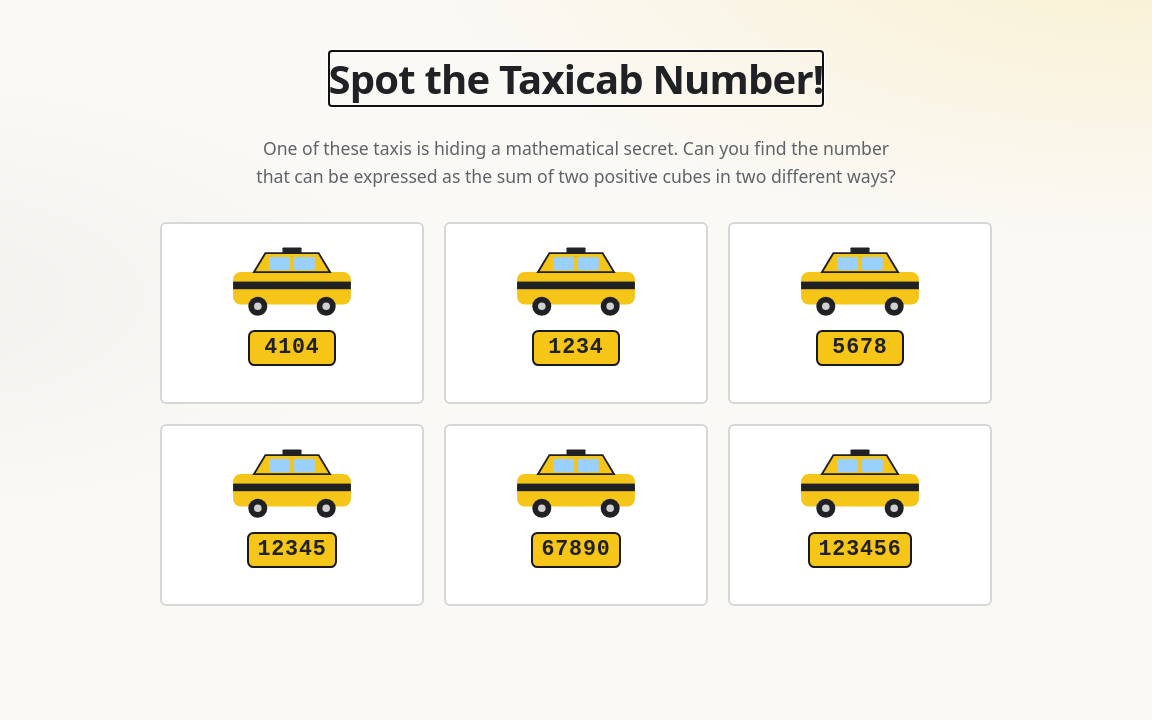
Scenario: GamePage › locks all taxis after a correct selection and unlocks reveal via Continue
Click the button named "Taxi with license plate 4104". click: (292, 313)
box: 160,222 -> 424,404
(page scrolled)
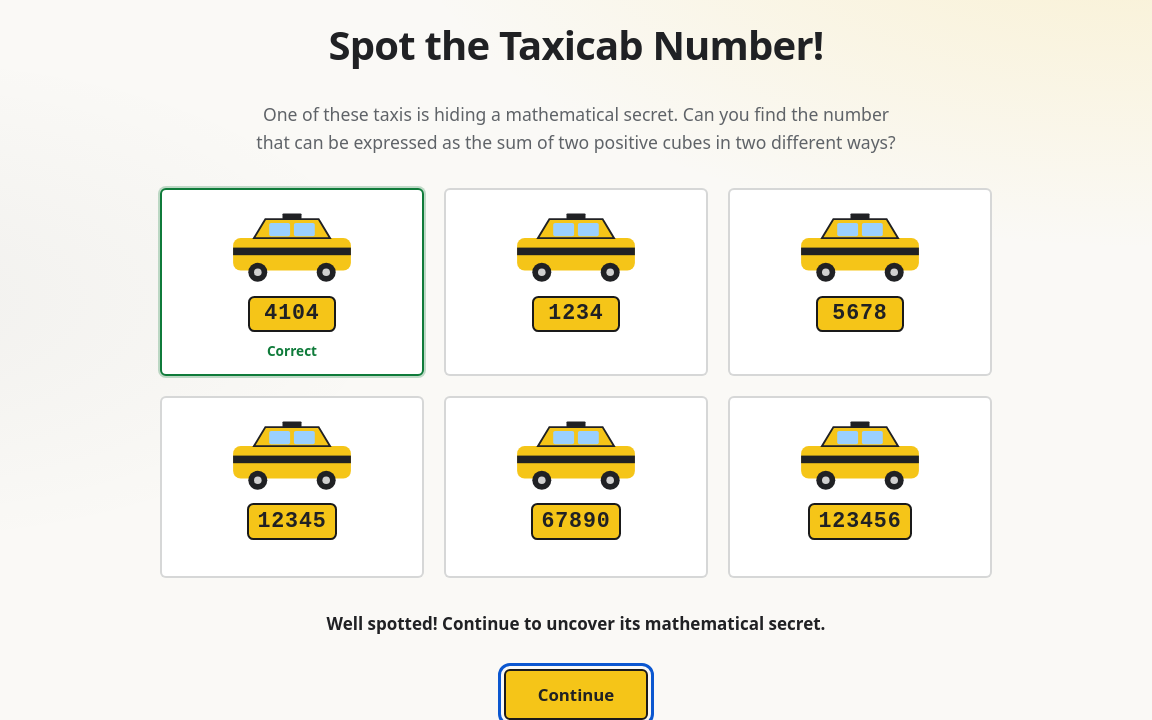
Expected: the text "Well spotted! Continue to uncover its mathematical secret." is shown, 327,610 -> 826,637
Expected: the button "4104 Correct" is disabled, 160,188 -> 424,376
Expected: the button "1234" is disabled, 444,188 -> 708,376
Click the button "Continue". click: (576, 695)
box: 504,669 -> 648,719
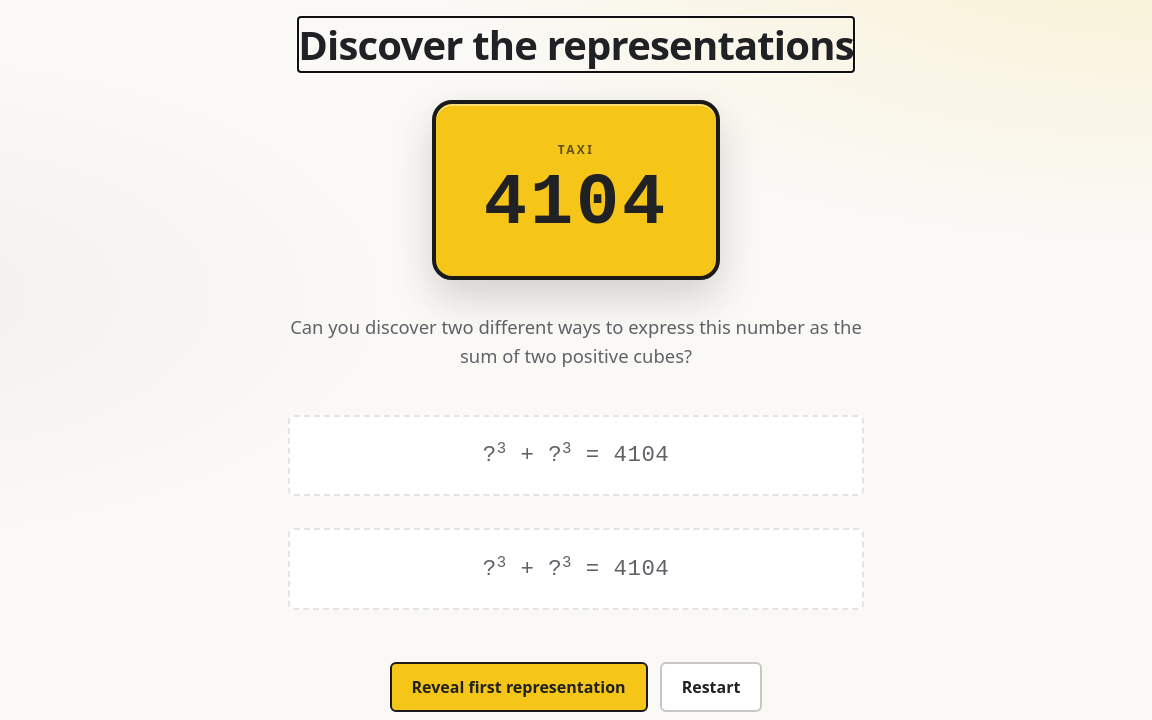
Expected: the heading "Discover the representations" is shown, 298,22 -> 854,68
Expected: the picture named "Taxi license plate 4104" is shown, 432,100 -> 720,280
Expected: the button "Reveal first representation" is enabled, 390,662 -> 648,712
